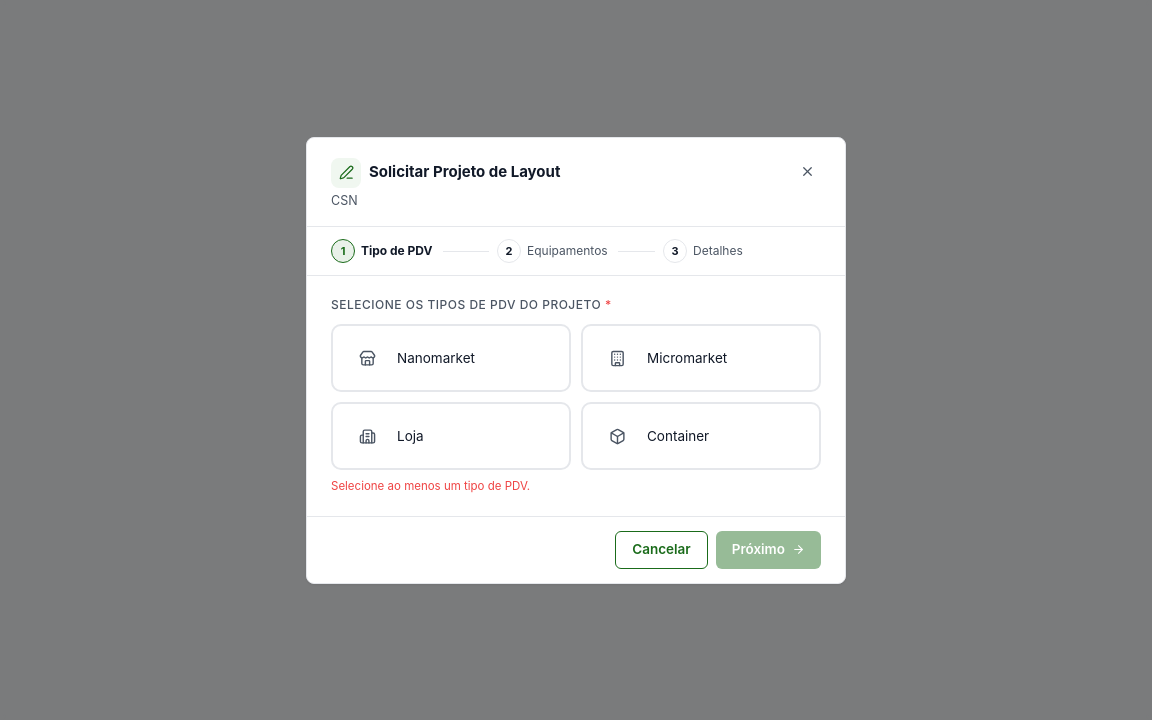
Test: ProjectRequestModal › enquanto há arquivo subindo, o envio fica bloqueado
Click the button "Nanomarket": (451, 358) [331, 324, 571, 392]
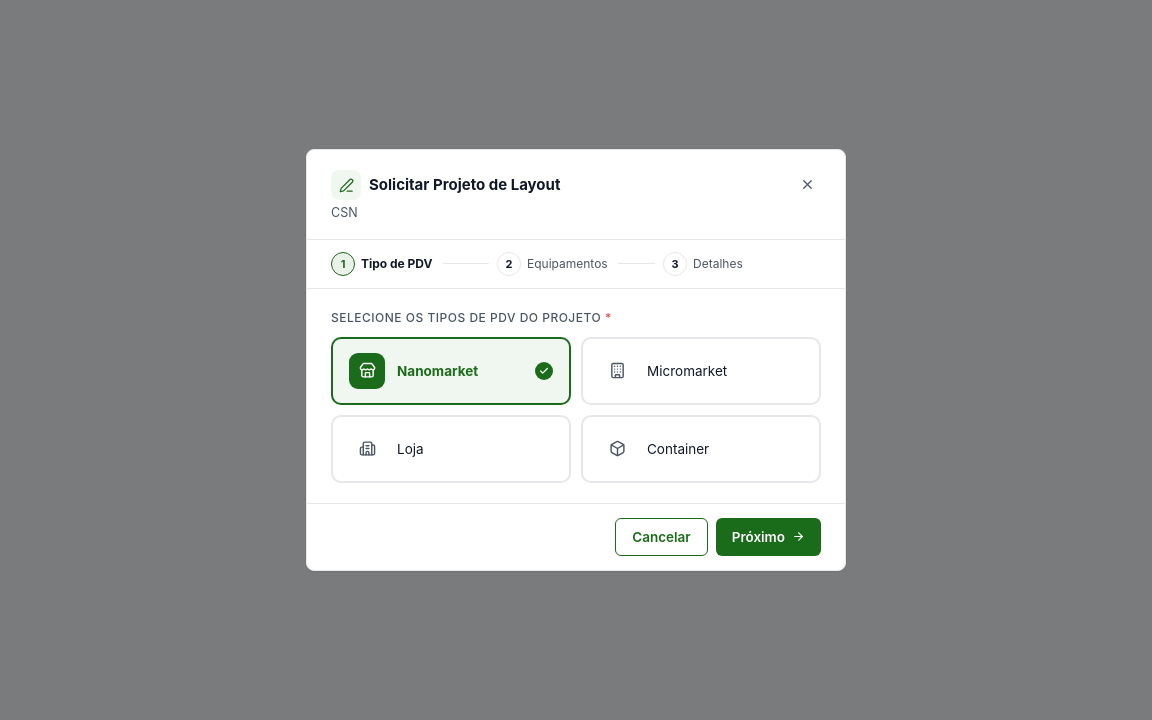
Click the button "Próximo": (768, 537) [716, 518, 821, 556]
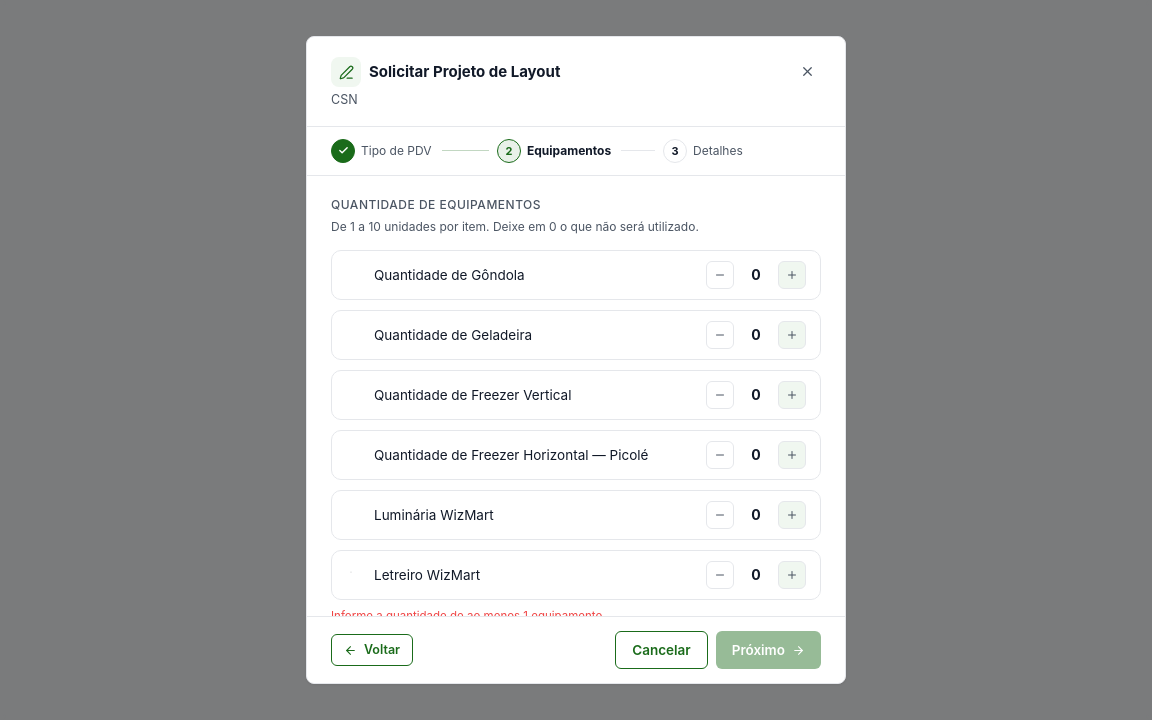
Click the button named "Aumentar Quantidade de Gôndola": (792, 275) [778, 261, 806, 289]
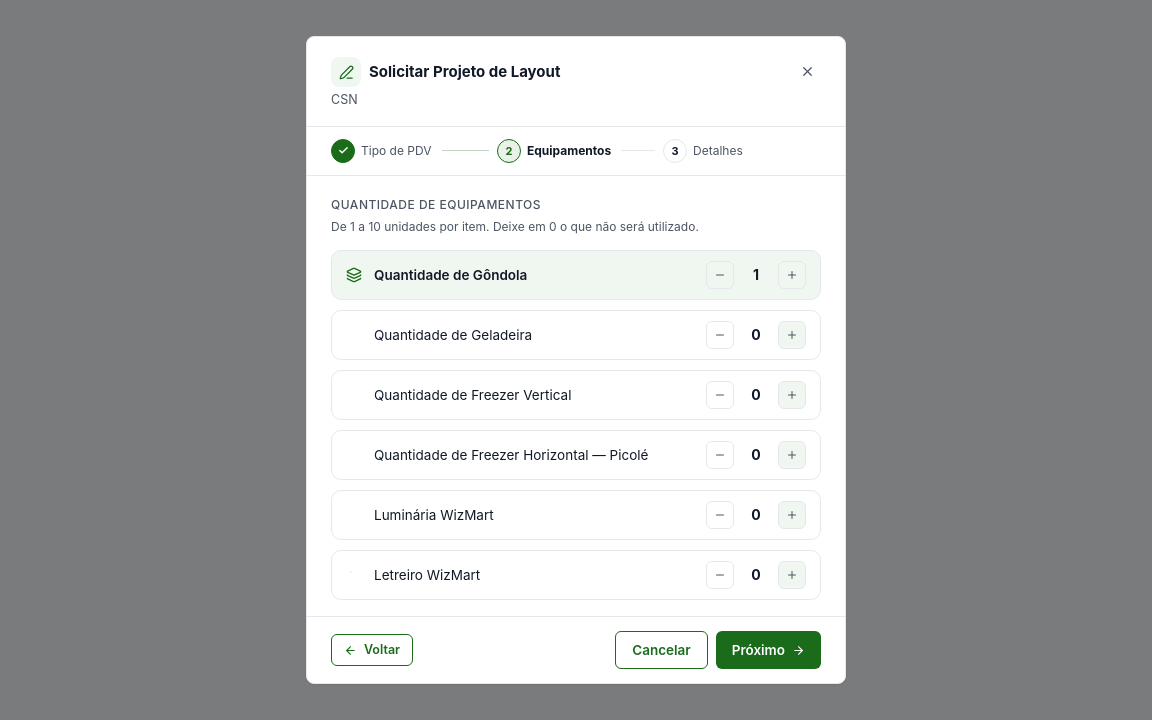
Click the button "Próximo": (768, 650) [716, 631, 821, 669]
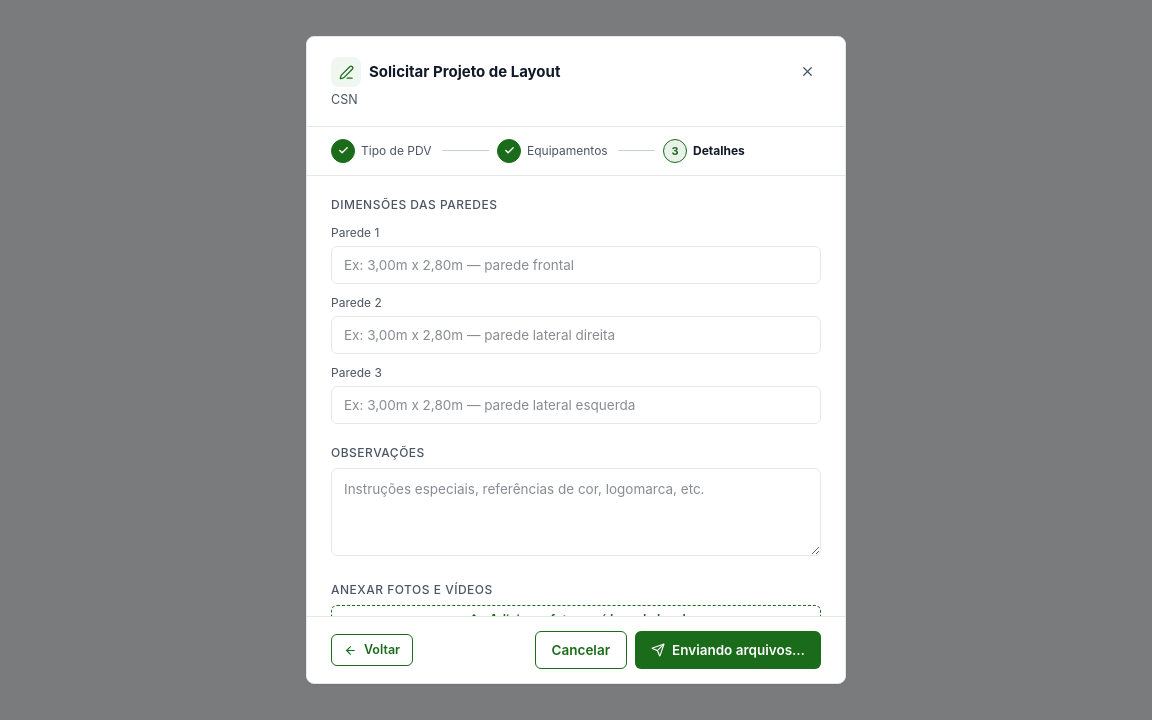
expect the button "Enviando arquivos…" is disabled: met, box [635, 631, 821, 669]
